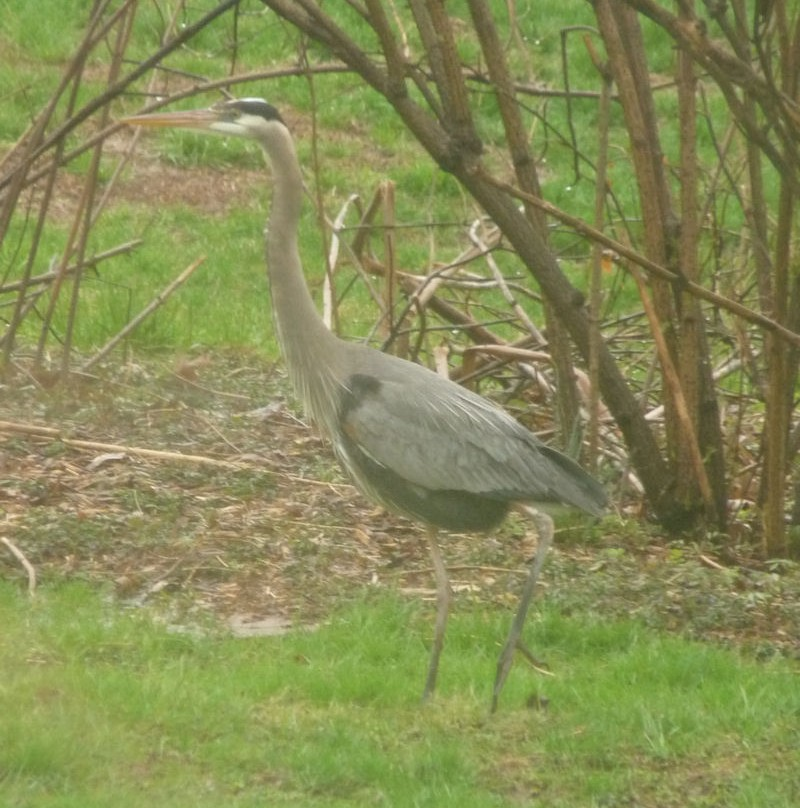heron: (110, 95, 613, 717)
